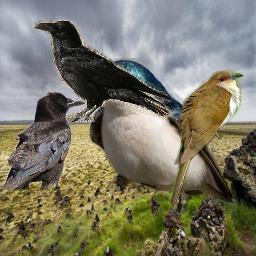Crow: (34, 20, 172, 122), (0, 91, 86, 190)
Cuckoo: (167, 70, 244, 212)
Swallow: (89, 58, 237, 215)
